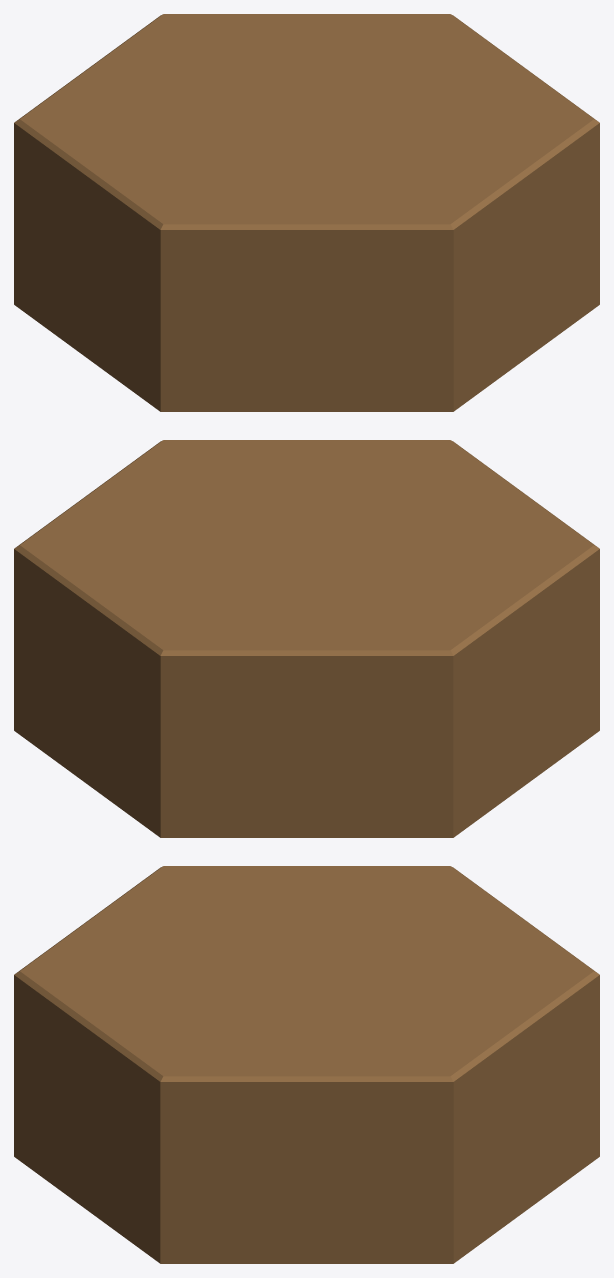
Rendered from RPG_Tiles_Hex_Dirt_Raised_01.FBX.
3 renders of one model, top to bottom at view 1: azimuth 30°, elevation 25°; view 2: azimuth 150°, elevation 25°; view 3: azimuth 270°, elevation 25°, orthographic.
Parts seen in each view (by area): view 1: RPG_Tiles_Hex_Dirt_Raised_01; view 2: RPG_Tiles_Hex_Dirt_Raised_01; view 3: RPG_Tiles_Hex_Dirt_Raised_01.
Boxes of the visible parts, left/top/right/bottom form: RPG_Tiles_Hex_Dirt_Raised_01: left=14, top=14, right=599, bottom=411; RPG_Tiles_Hex_Dirt_Raised_01: left=14, top=440, right=599, bottom=837; RPG_Tiles_Hex_Dirt_Raised_01: left=14, top=866, right=599, bottom=1263.
Bounding box in the file's own units: 3000 × 1210 × 3464.
